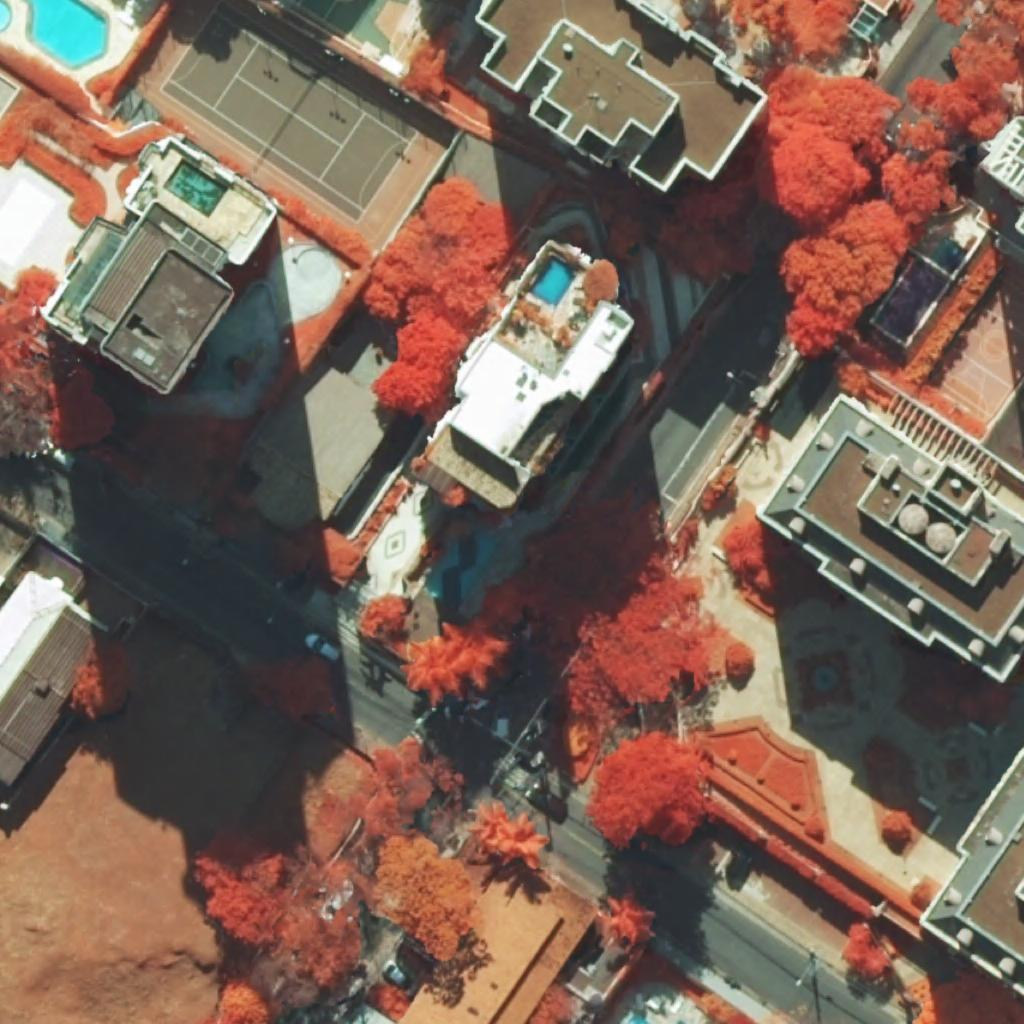pool: (424, 532, 496, 610), (27, 0, 106, 68), (164, 159, 228, 217), (529, 256, 576, 306)
